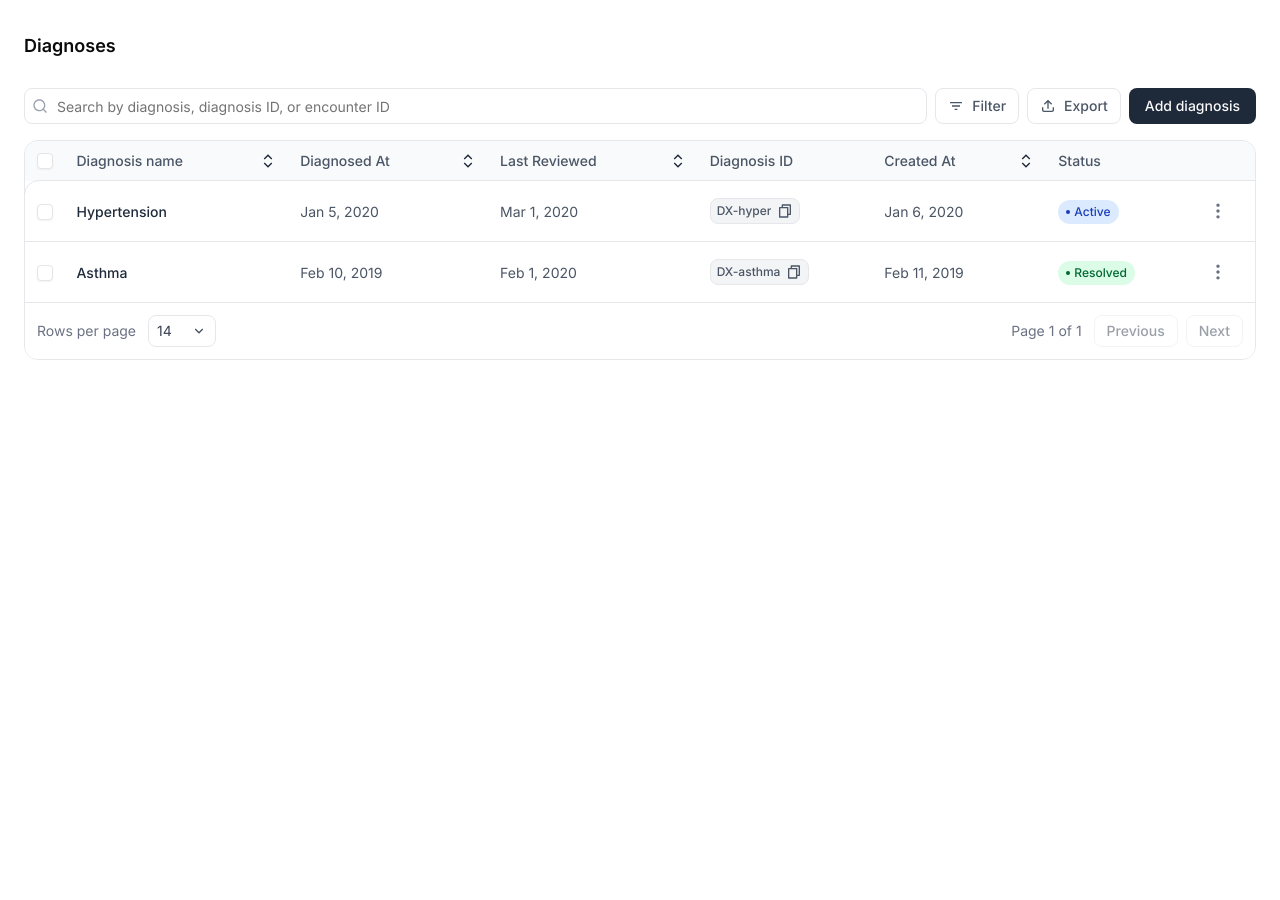
Test case: Diagnoses table › opens the details drawer with the chosen row's data from the row actions
Click the button named "Open actions for Asthma". click: (1218, 272)
box: x1=1200 y1=254 x2=1236 y2=290
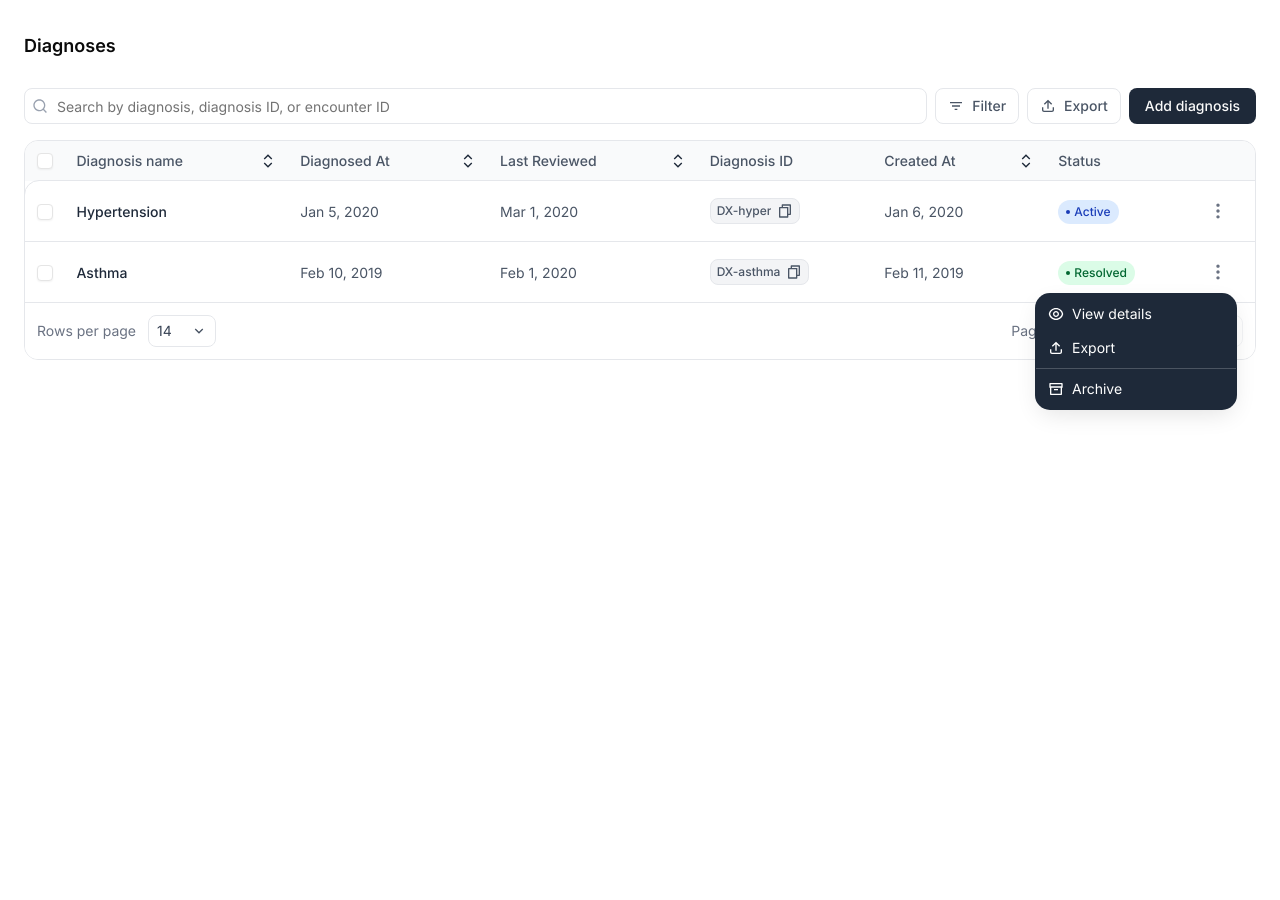
Now the menu item "Export" is shown, box x1=1048 y1=339 x2=1115 y2=356
Now the menu item "Archive" is shown, box x1=1048 y1=380 x2=1122 y2=397
Click the menu item "View details". click: (1100, 314)
box: x1=1048 y1=305 x2=1152 y2=322
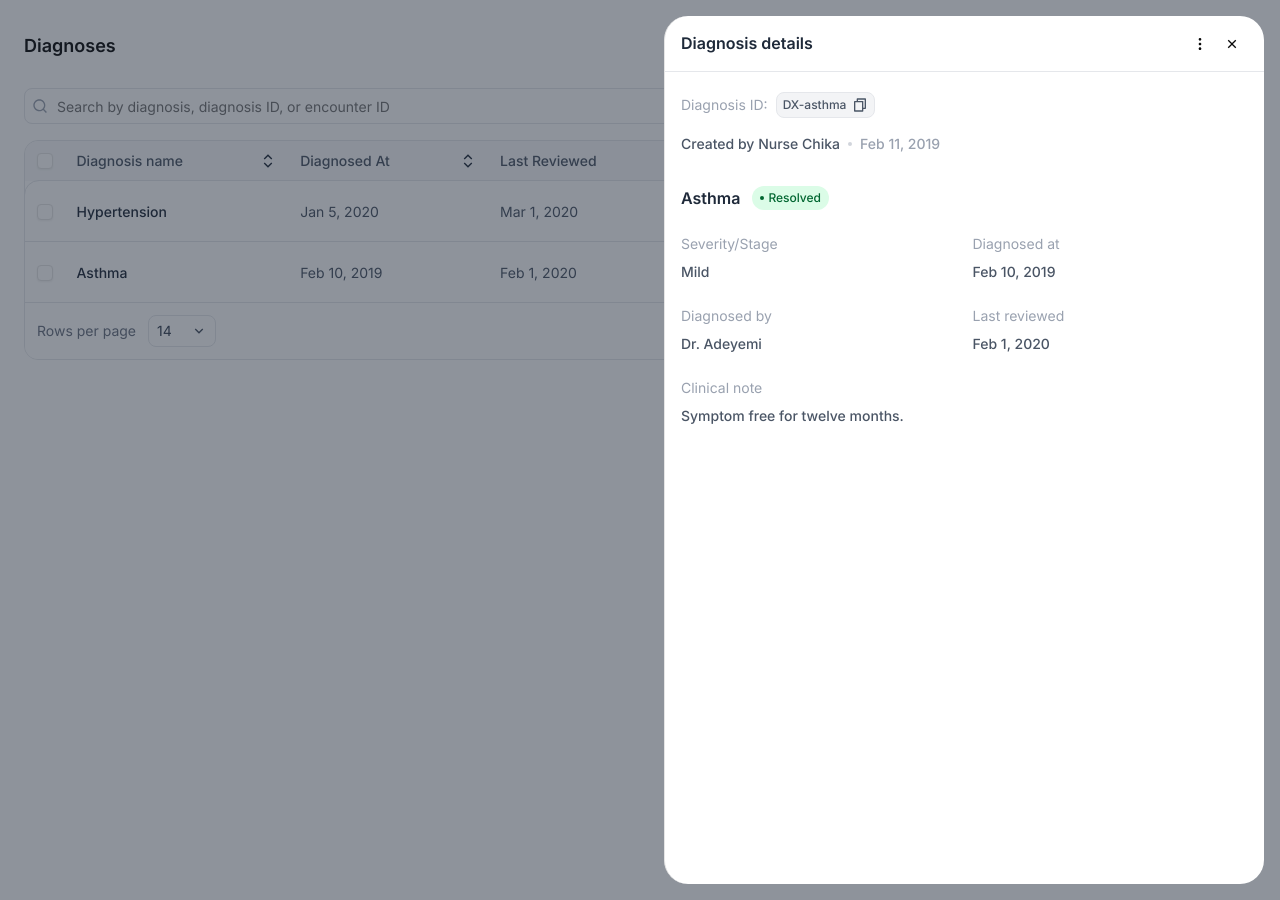
Now the heading "Asthma" is shown, box x1=681 y1=186 x2=740 y2=210
Now the text "Mild" is shown, box x1=681 y1=263 x2=710 y2=280
Now the text "Dr. Adeyemi" is shown, box x1=681 y1=335 x2=762 y2=352
